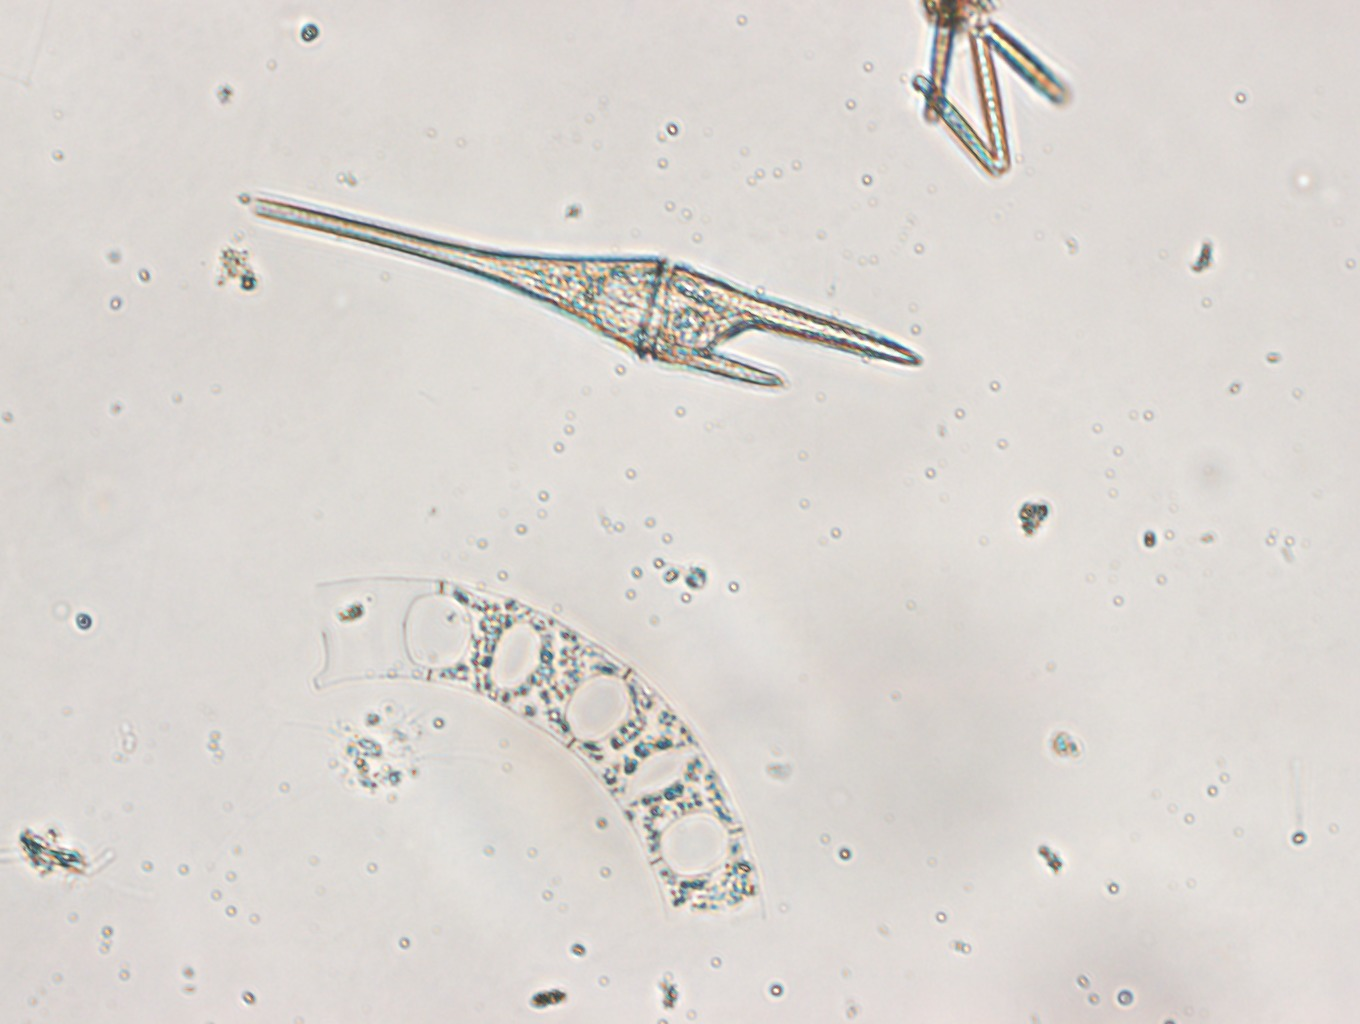ceratium furca: (250, 191, 927, 392)
eucampia: (310, 577, 761, 918)
thalassionema nitzschioides: (908, 22, 1070, 175)
